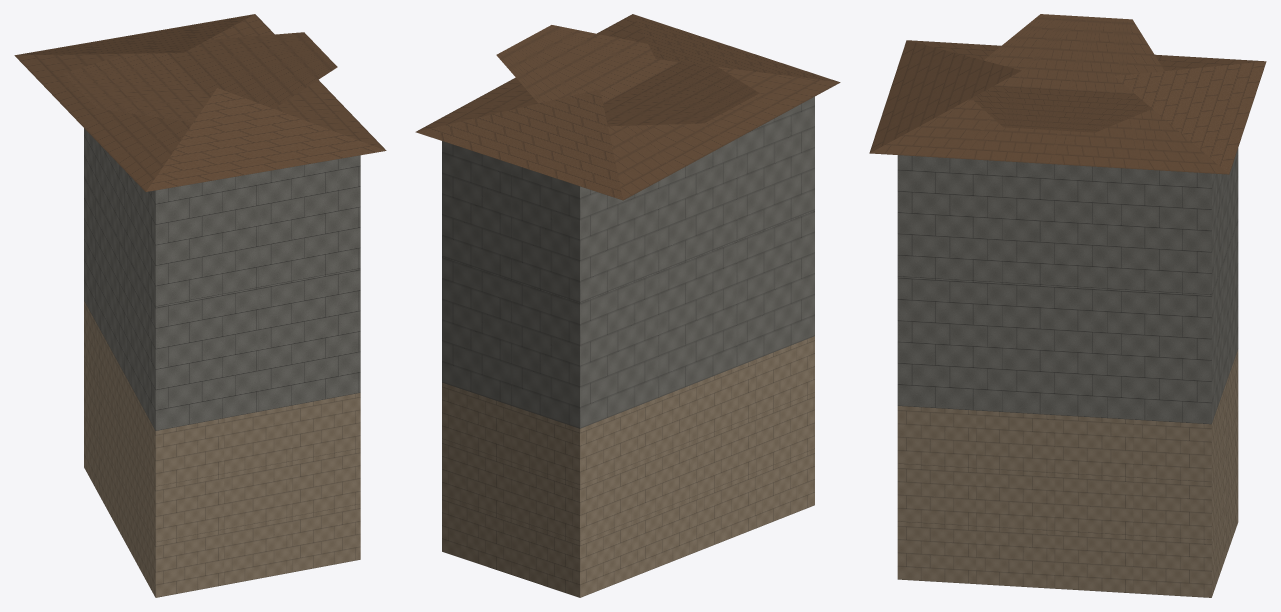
The model's file is bld_c-24_-14_776.gltf.
The picture shows the model from 3 angles, left to right: view 1: azimuth 30°, elevation 25°; view 2: azimuth 150°, elevation 25°; view 3: azimuth 270°, elevation 25°; orthographic projection. The views are drawn at different scales.
Parts seen in each view (by area): view 1: bld_c-24_-14_776; view 2: bld_c-24_-14_776; view 3: bld_c-24_-14_776.
Part boxes in pixels (x1,y1,x2,y2): bld_c-24_-14_776: (14,14,386,597); bld_c-24_-14_776: (415,14,840,597); bld_c-24_-14_776: (869,14,1266,597).
Bounding box in the file's own units: 8.46 × 13.7 × 10.57.
3 materials, 3 textured.
